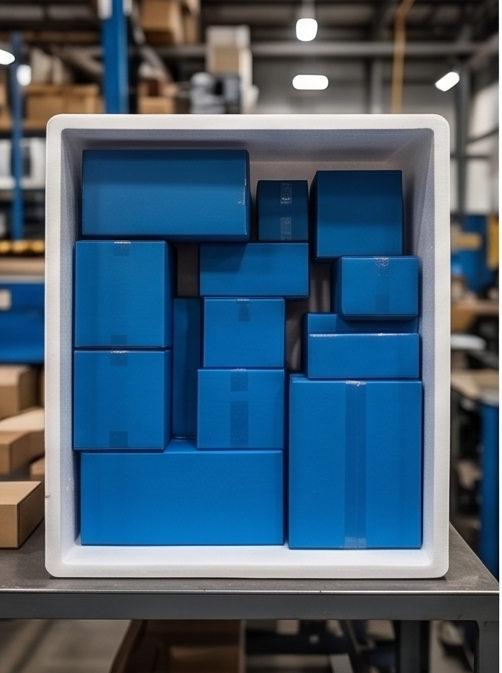blue_box: (283, 370, 422, 550), (75, 432, 286, 547), (80, 151, 247, 240), (73, 244, 173, 352), (70, 352, 172, 453), (309, 169, 402, 257), (197, 370, 283, 449), (199, 242, 308, 300), (201, 299, 281, 373), (332, 254, 420, 318), (304, 334, 419, 379), (256, 177, 308, 242), (306, 311, 417, 335), (171, 303, 201, 373), (170, 369, 195, 439)
container_box: (46, 114, 448, 580)
